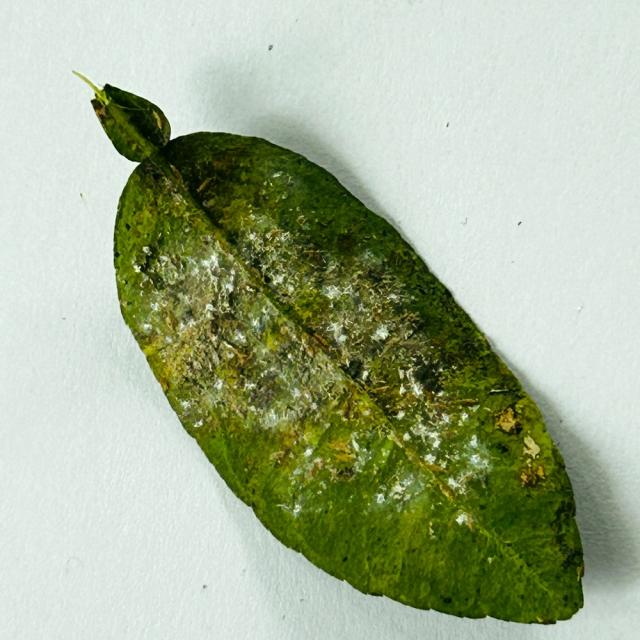Bacterial_Blight: (298, 365, 489, 510), (293, 254, 423, 393), (415, 335, 521, 421), (361, 340, 457, 420), (241, 225, 319, 306), (166, 262, 231, 348), (346, 264, 416, 339), (238, 360, 317, 425), (482, 478, 557, 543), (198, 151, 273, 206), (247, 352, 310, 413), (181, 315, 231, 378), (124, 274, 169, 333), (121, 188, 166, 245), (321, 433, 361, 476), (252, 367, 283, 402), (324, 316, 355, 348), (250, 308, 274, 338), (147, 268, 166, 291), (299, 337, 318, 360), (226, 288, 241, 312), (181, 307, 195, 325), (170, 253, 183, 272)
Lemon: (88, 85, 585, 627)
